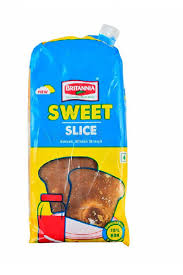bread: (24, 24, 133, 249)
